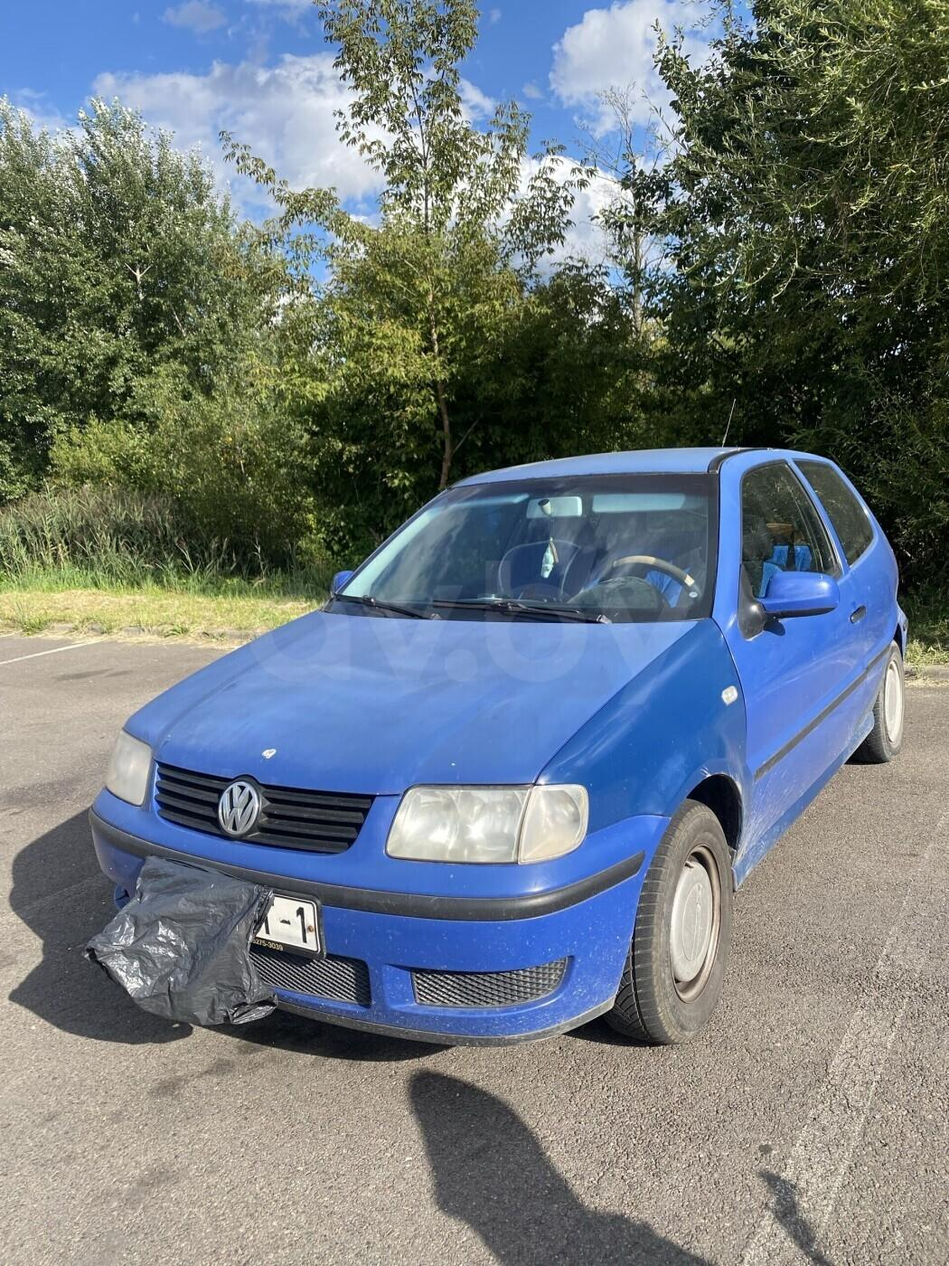Polo_2000-2002: (93, 414, 910, 1058)
